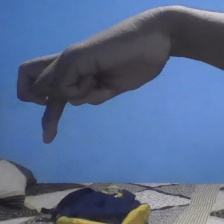P: (12, 3, 175, 147)
